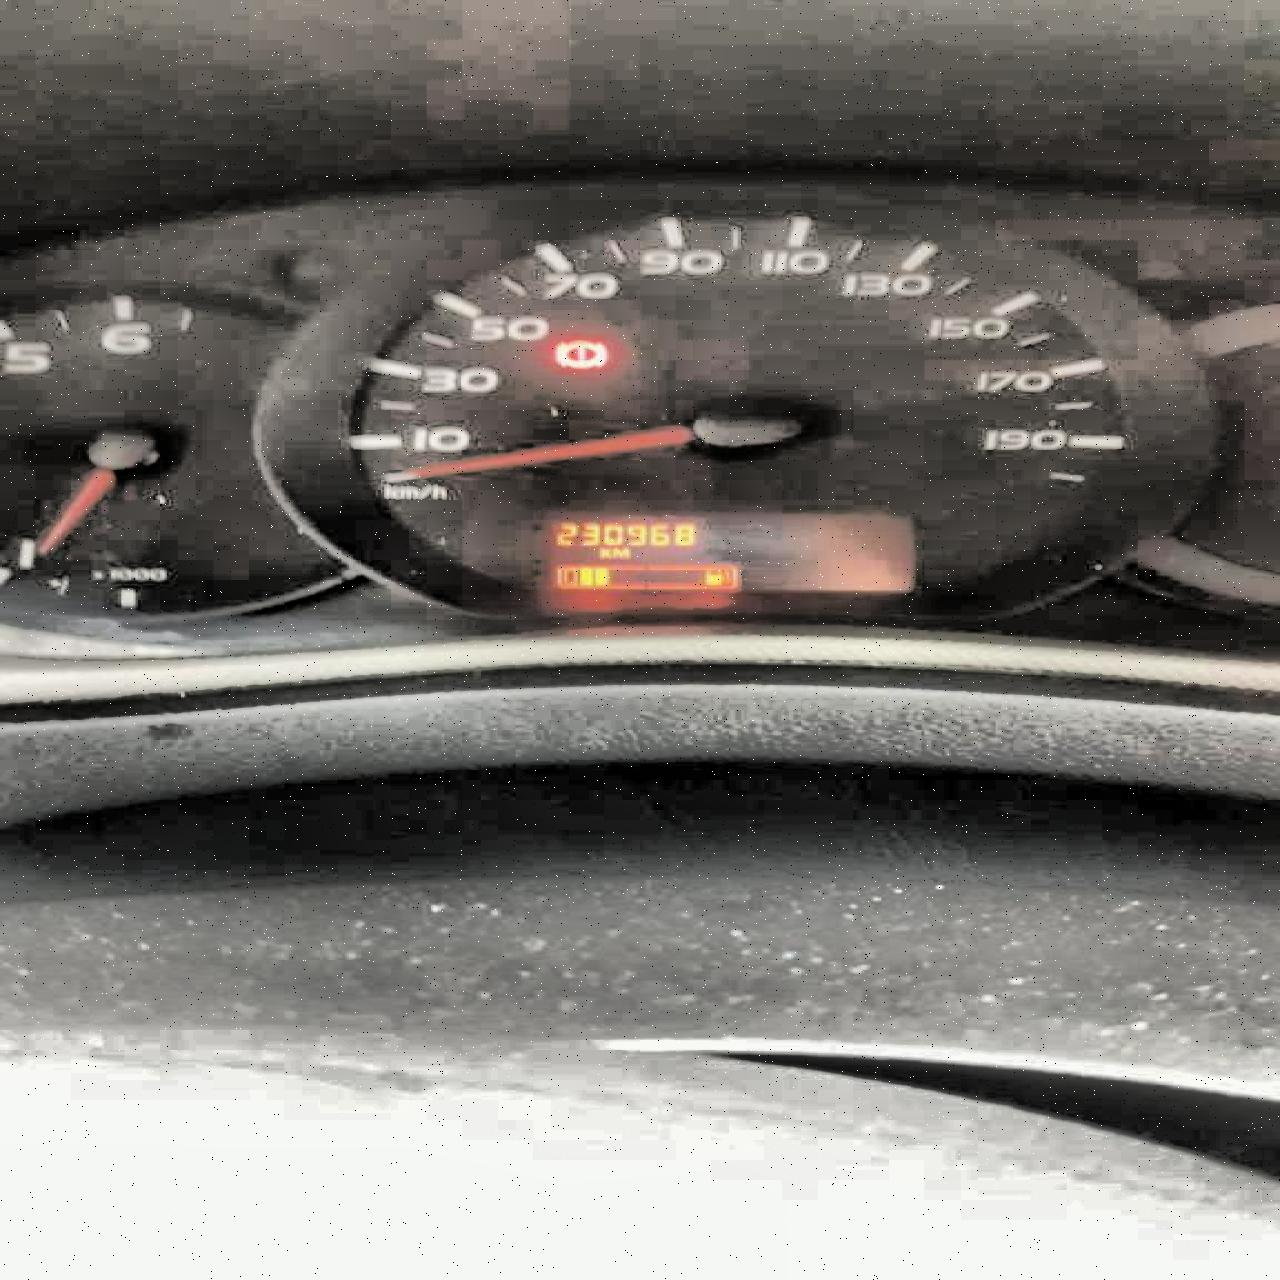0: (598, 520, 622, 545)
2: (551, 520, 576, 546)
3: (576, 520, 598, 546)
6: (647, 522, 669, 546)
8: (672, 522, 696, 546)
9: (622, 520, 647, 545)
X: (610, 545, 629, 559), (595, 545, 608, 559)
odometer: (516, 501, 928, 605)
